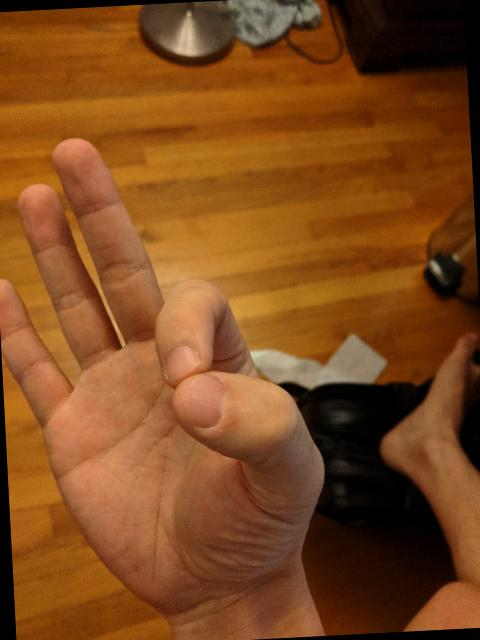F: (0, 121, 335, 630)
